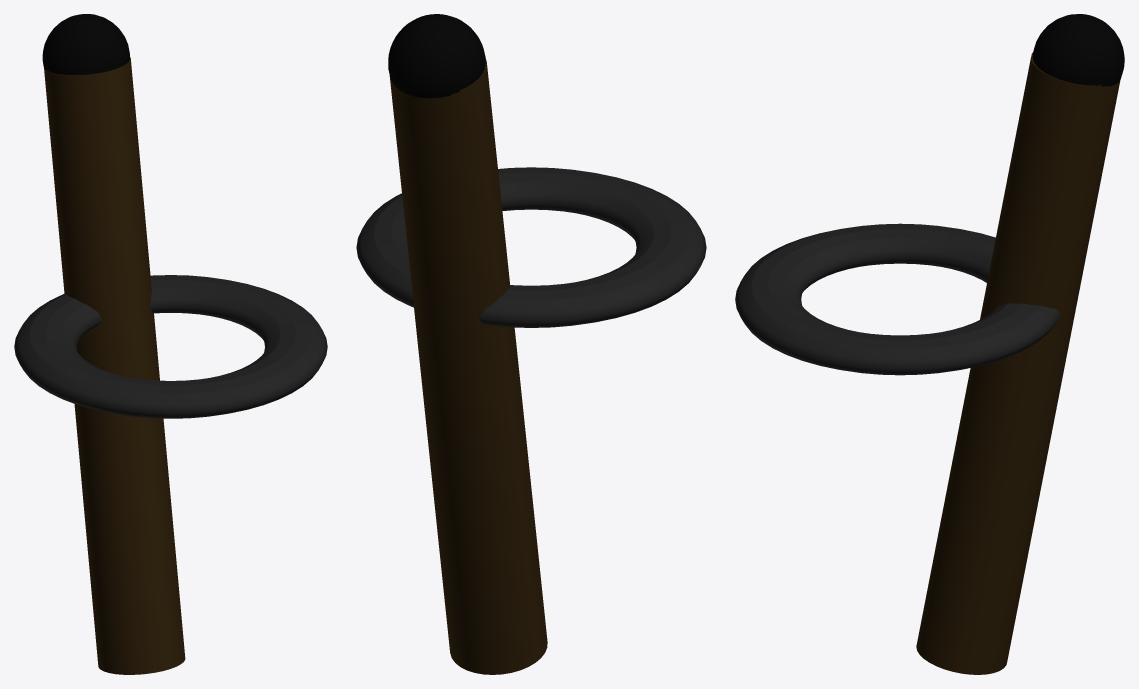
Rendered from torch_wall.glb.
3 renders of one model, left to right at view 1: azimuth 30°, elevation 25°; view 2: azimuth 150°, elevation 25°; view 3: azimuth 270°, elevation 25°, orthographic. The views are drawn at different scales.
Parts seen in each view (by area): view 1: Cylinder, Torus, Sphere; view 2: Cylinder, Torus, Sphere; view 3: Cylinder, Torus, Sphere.
Part boxes in pixels (x1,y1,x2,y2): Cylinder: (44,57,185,674); Torus: (14,275,327,418); Sphere: (42,14,129,75); Cylinder: (389,59,547,674); Torus: (356,167,706,327); Sphere: (388,14,485,98); Cylinder: (916,52,1120,674); Torus: (735,223,1061,375); Sphere: (1032,14,1124,86).
Bounding box in the file's own units: 0.25 × 0.5373 × 0.295.
